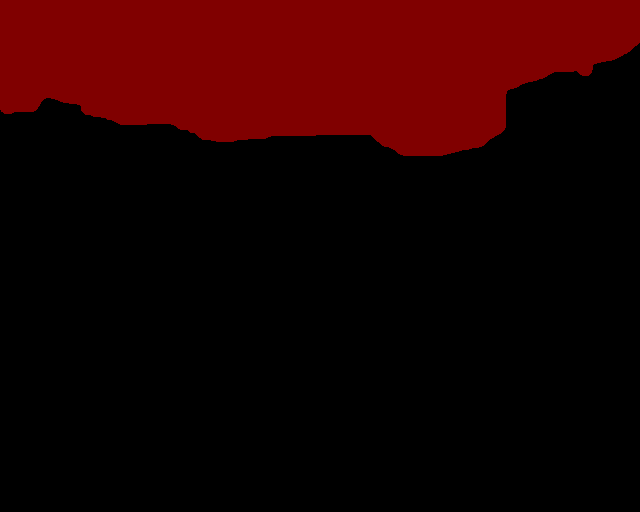Sky: (1, 1, 639, 156)
